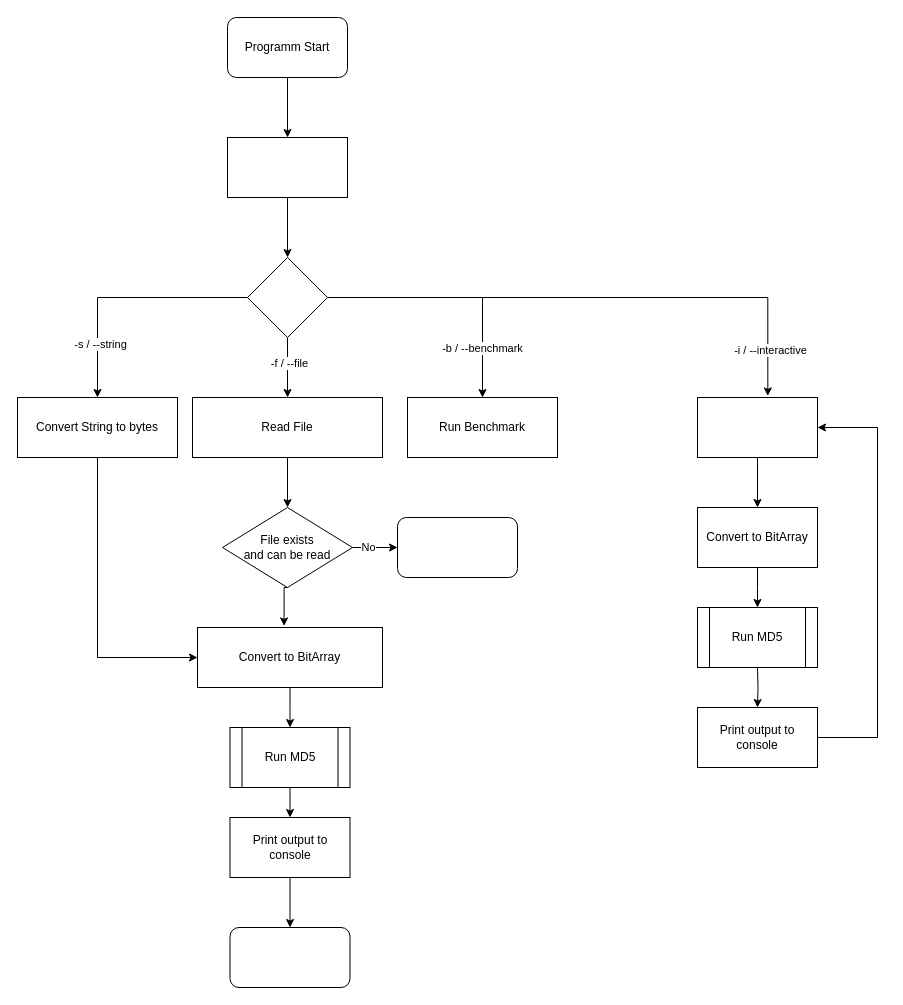
This 903x1005 diagram has some shape labels left out. Here are the shapes that lost their labels. From the top down, the centre of each, then its label:
At pixel 287 167: "Parse CLI Flags".
At pixel 287 297: "Mode".
At pixel 757 427: "Ask user for String".
At pixel 457 547: "Warn and abort".
At pixel 289 957: "Exit".
